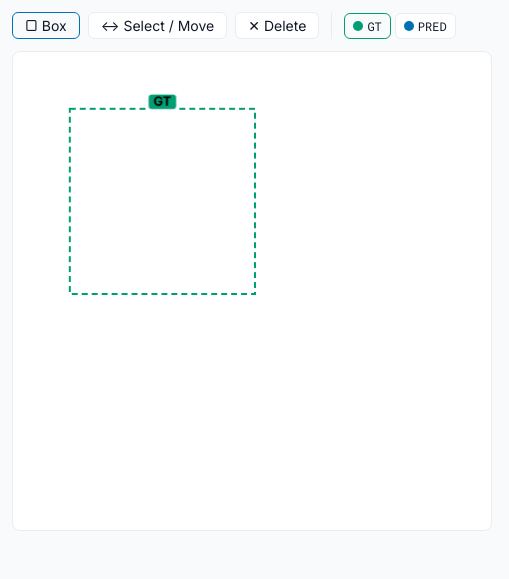
Test: DetectionCanvas › a selected GT box shows a disabled, no-confidence state
The image size is (509, 579).
Click the button "↔ Select / Move" at coordinates (157, 26), box x1=88 y1=12 x2=227 y2=39
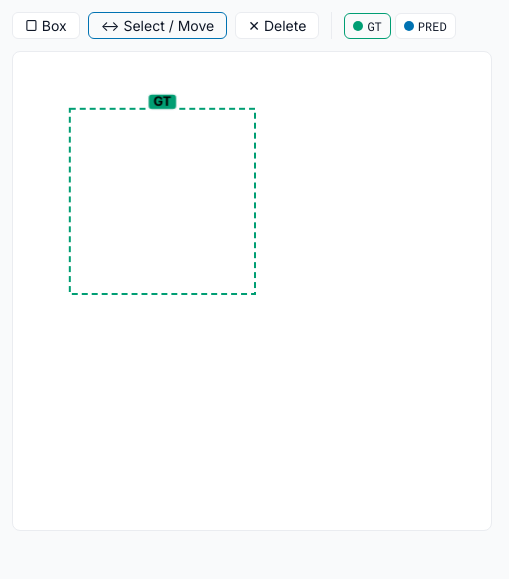
Press the mouse on the drawing named "Detection editor" at coordinates (252, 291), box x1=12 y1=51 x2=492 y2=531
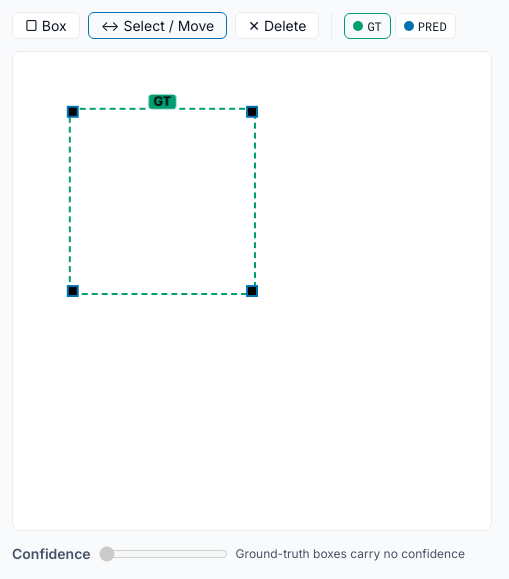
Expected: the slider labelled "Confidence Ground-truth boxes carry no confidence" is disabled, x1=99 y1=546 x2=228 y2=562
